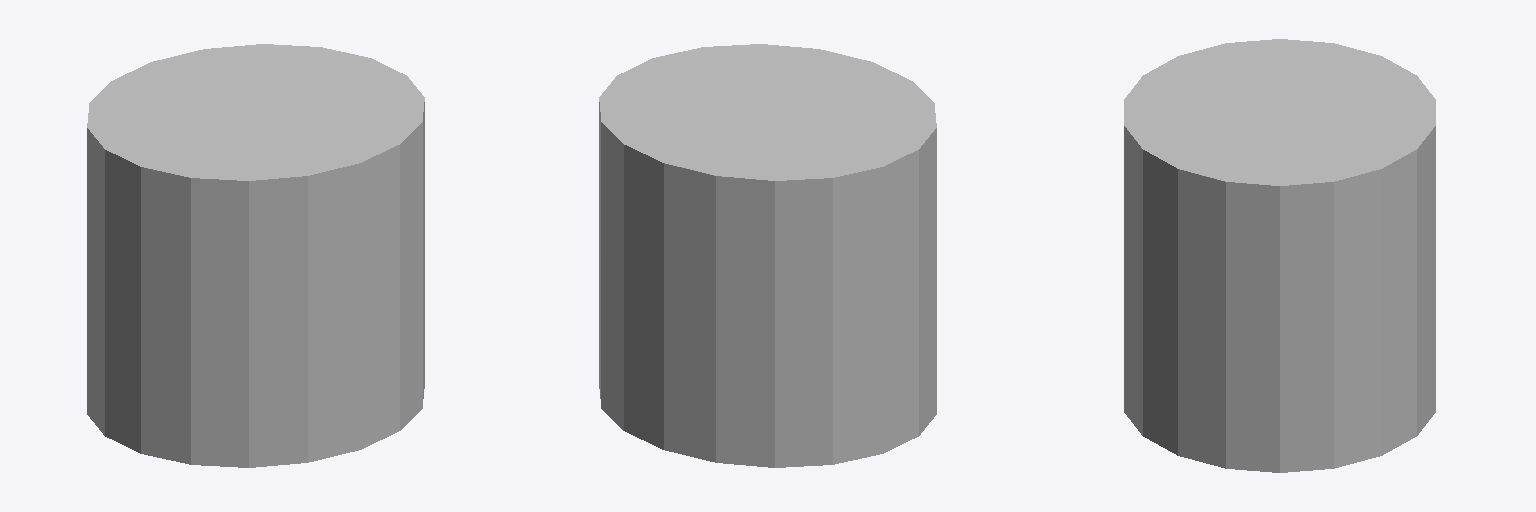
File: original-9.obj
3 views of the same model, side by side, from view 1: azimuth 30°, elevation 25°; view 2: azimuth 150°, elevation 25°; view 3: azimuth 270°, elevation 25° (orthographic).
Visible parts, largest first — view 1: mesh6/mesh6-geometry#mesh6-geometry; view 2: mesh6/mesh6-geometry#mesh6-geometry; view 3: mesh6/mesh6-geometry#mesh6-geometry.
Boxes of the visible parts, box(x1,y1,x2,y2) form: mesh6/mesh6-geometry#mesh6-geometry: box(87, 44, 424, 467); mesh6/mesh6-geometry#mesh6-geometry: box(599, 44, 936, 467); mesh6/mesh6-geometry#mesh6-geometry: box(1124, 39, 1435, 472).
Bounding box in the file's own units: 0.0429 × 0.039 × 0.0384.